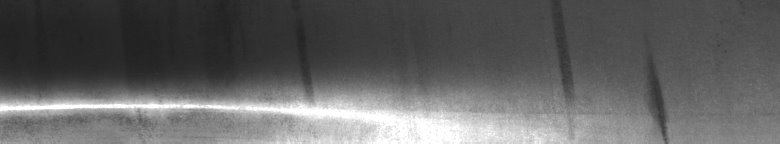ke: (4, 68, 320, 128)
